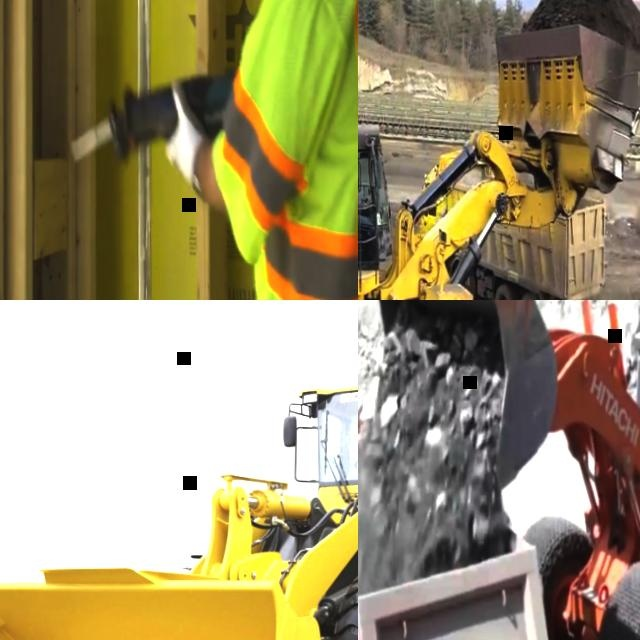NO-Mask: (358, 171, 361, 178)
Person: (155, 0, 358, 300), (358, 159, 374, 215)
Safety Vest: (212, 0, 358, 300)
machinery: (0, 353, 358, 640), (358, 300, 640, 640), (358, 9, 640, 300), (358, 382, 573, 640), (423, 138, 609, 300)
